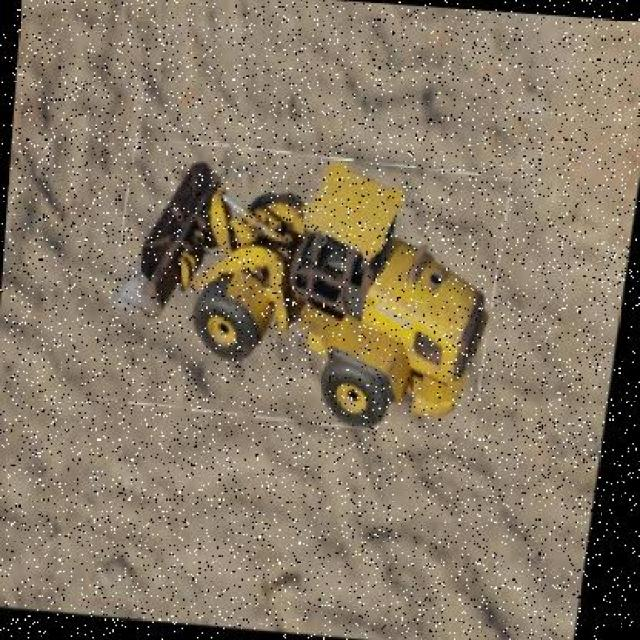buldozerpayloadergrader: (111, 150, 497, 432)
